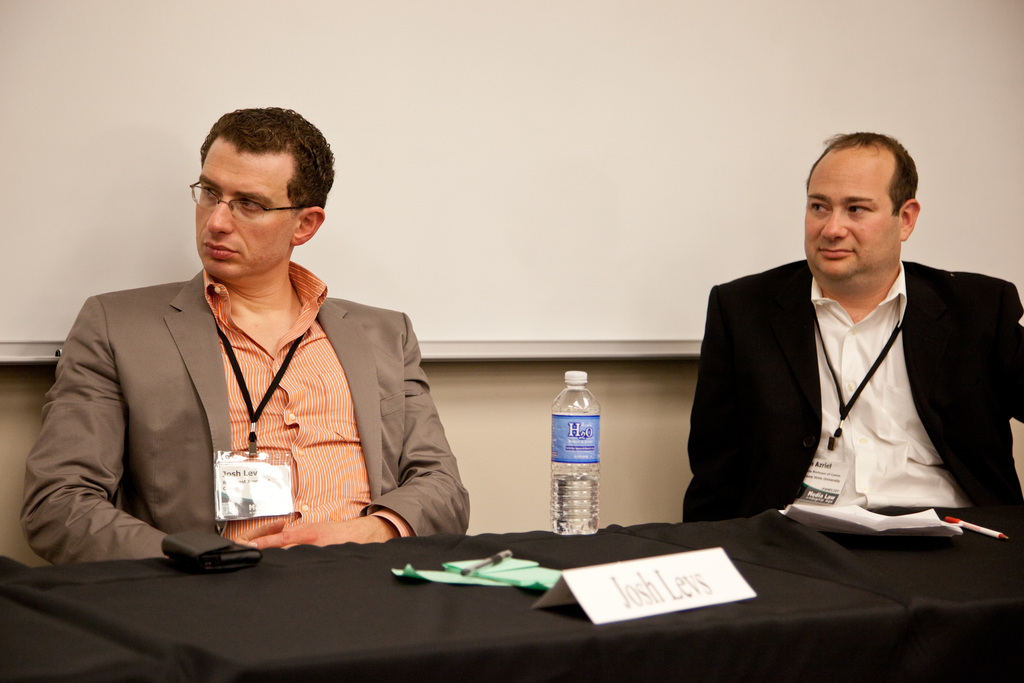Person: (19, 107, 469, 564), (682, 130, 1024, 523)
